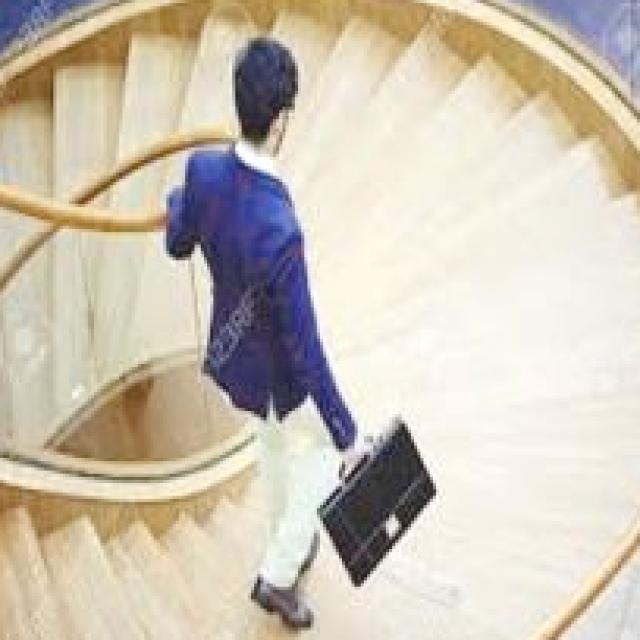downstair: (330, 208, 640, 447)
